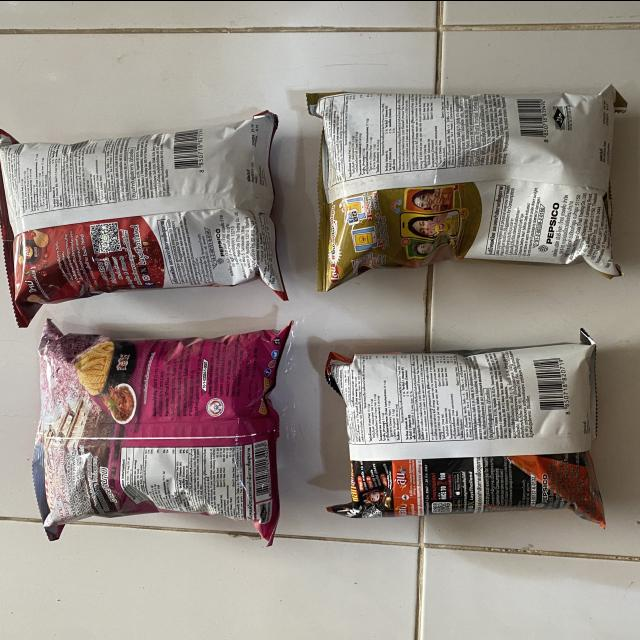plastik: (307, 85, 626, 290), (0, 111, 285, 326), (32, 320, 291, 544), (326, 330, 605, 526)
